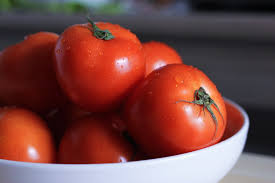tomato: (124, 63, 227, 155), (54, 22, 146, 112)
